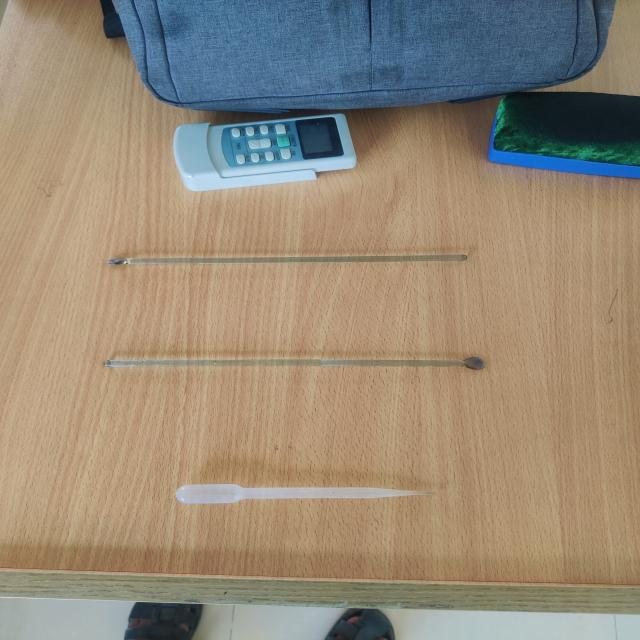Glass_Rod: (85, 314, 528, 399), (82, 218, 506, 294)
Pipette: (139, 445, 434, 547)
